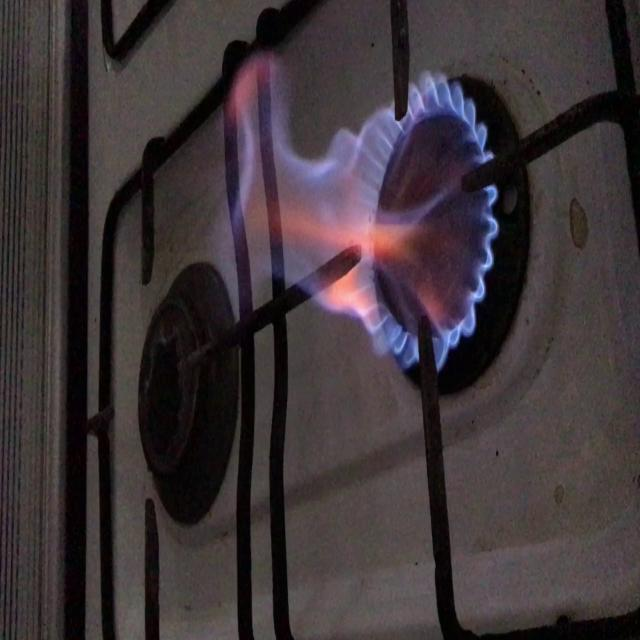Fire: (230, 62, 536, 350)
